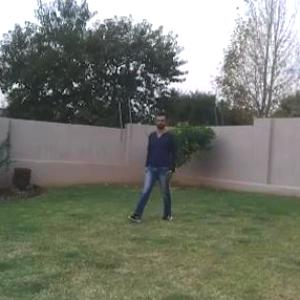follow: (144, 109, 175, 217)
